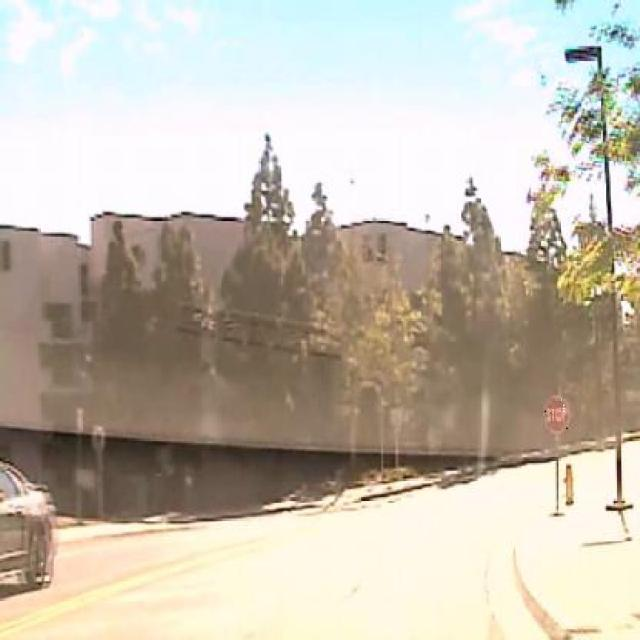stop: (545, 396, 570, 434)
